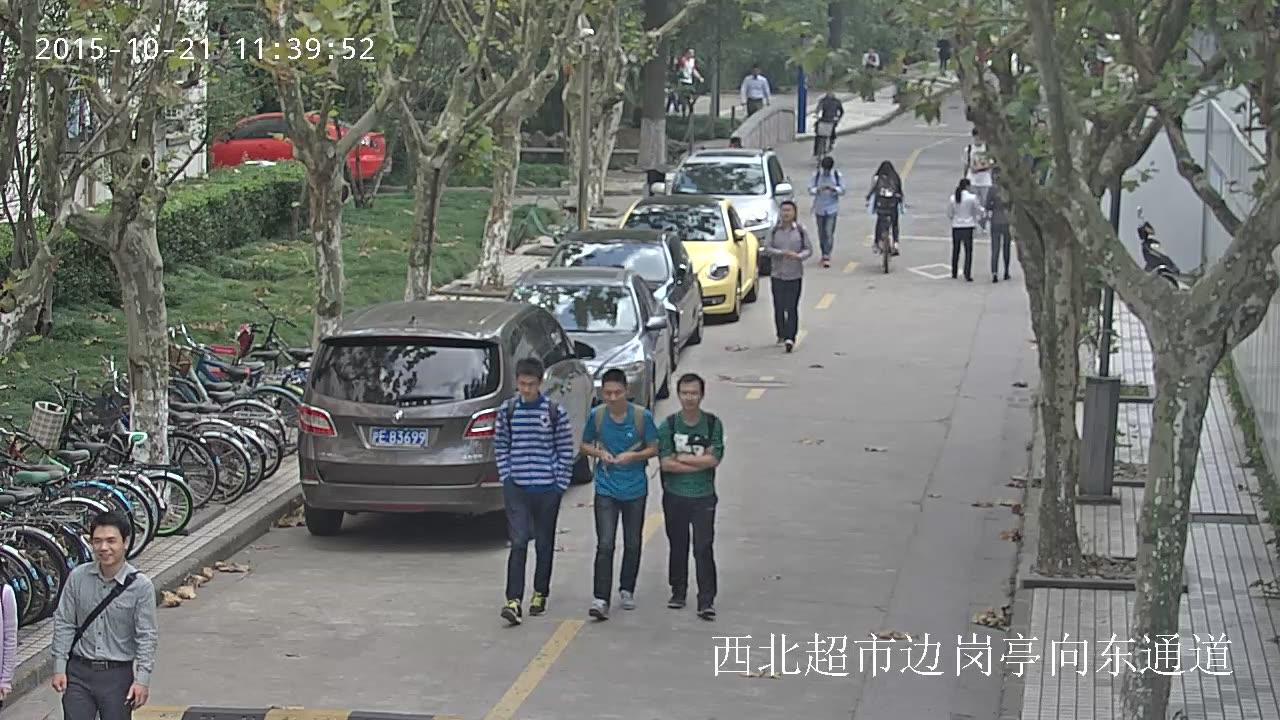person: (52, 510, 159, 720), (492, 356, 575, 624), (581, 368, 660, 620), (660, 373, 724, 620), (764, 200, 813, 352), (864, 159, 905, 274), (807, 156, 845, 266), (864, 160, 906, 256), (947, 178, 982, 282), (961, 126, 995, 230), (984, 167, 1014, 282), (812, 90, 844, 170), (812, 90, 843, 157), (678, 47, 703, 115), (740, 62, 770, 117), (860, 46, 879, 102), (665, 54, 681, 115), (935, 37, 952, 78)
